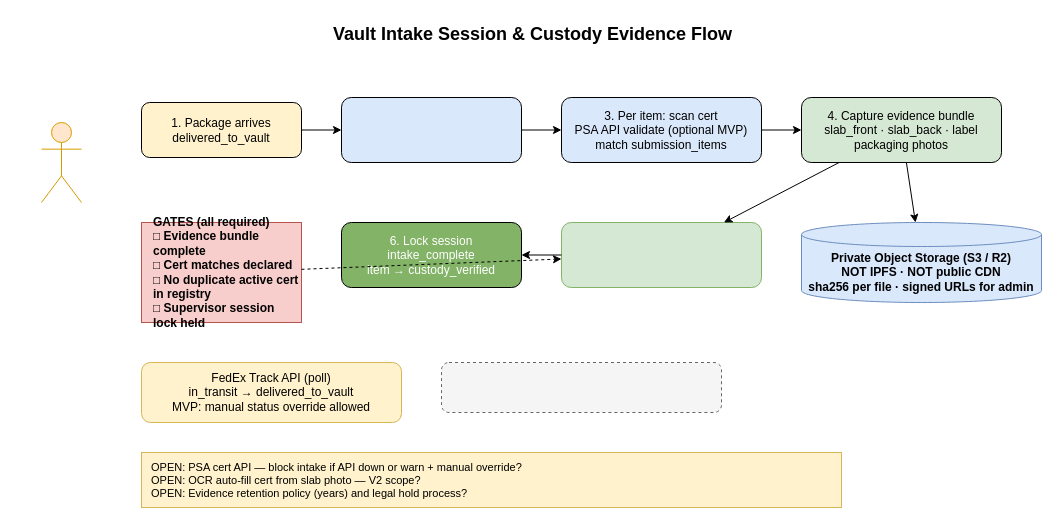
Some shapes in this 1059 by 525 pixel diagram are drawn without their labels. Here are the shapes that lost their labels. From the top down, the box of each, then its label:
(340, 96, 522, 162): 2. Open intake session INT-{TBV-ID} packaging_condition
(40, 122, 82, 202): Vault Admin (supervisor lock)
(560, 222, 762, 288): 5. Custody verify custody_records row verified_by · cert_match=true
(440, 362, 722, 412): V2: dual verifier (four-eyes) Enterprise: four-eyes on all custody ops
